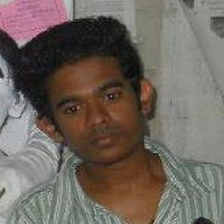no_mask: (49, 72, 146, 159)
